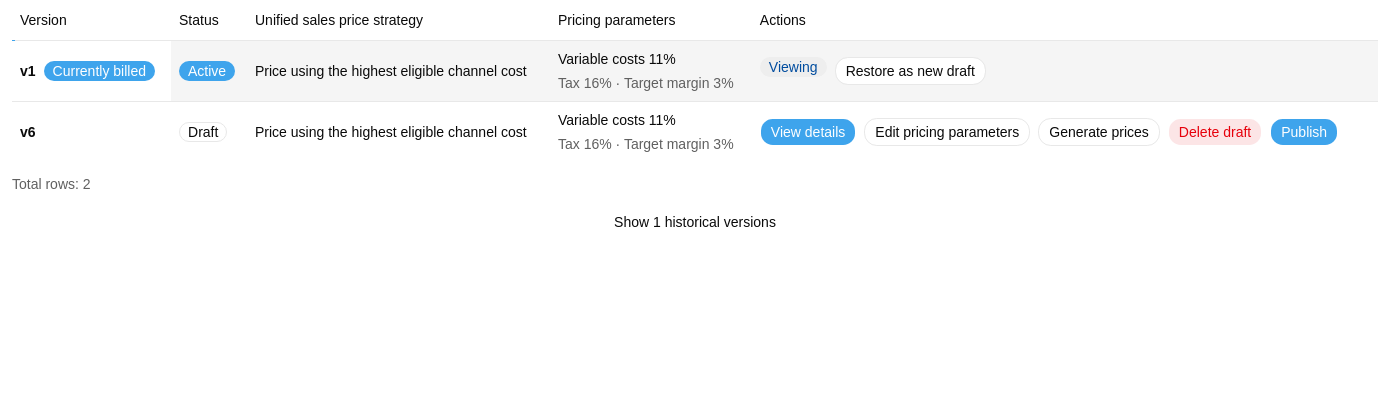
Test: shows the active version first and keeps cancelled versions collapsed
This screenshot has width=1390, height=397.
Expected: the row that starts with "Currently billed" shows "v1", [12,40,1378,101]
Expected: the text "v5" is not shown
Click the button "Show 1 historical versions": (695, 222) [12,206,1378,238]
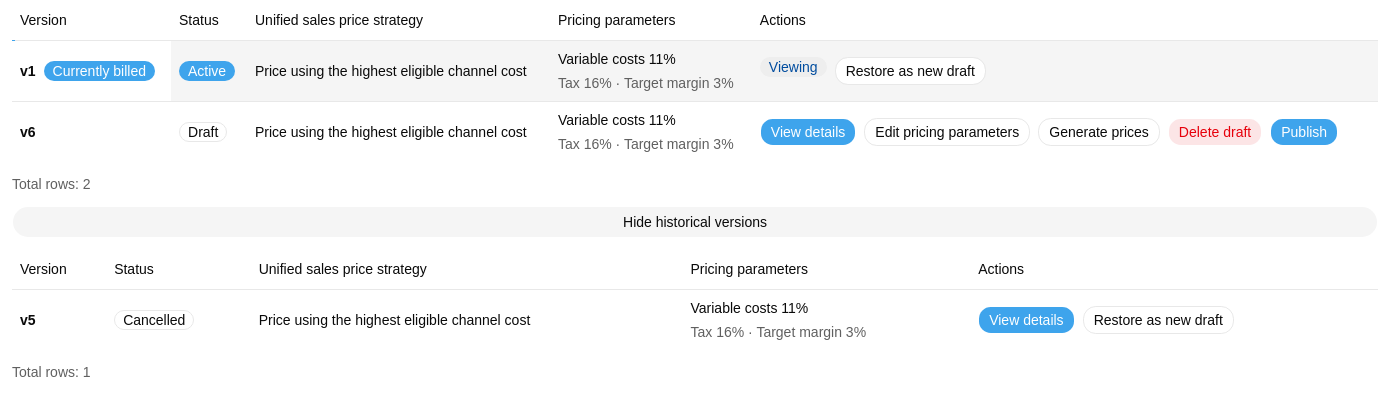
Expected: the text "v5" is shown, [20,310,36,330]
Expected: the text "Total rows: 1" is shown, [12,364,91,380]
